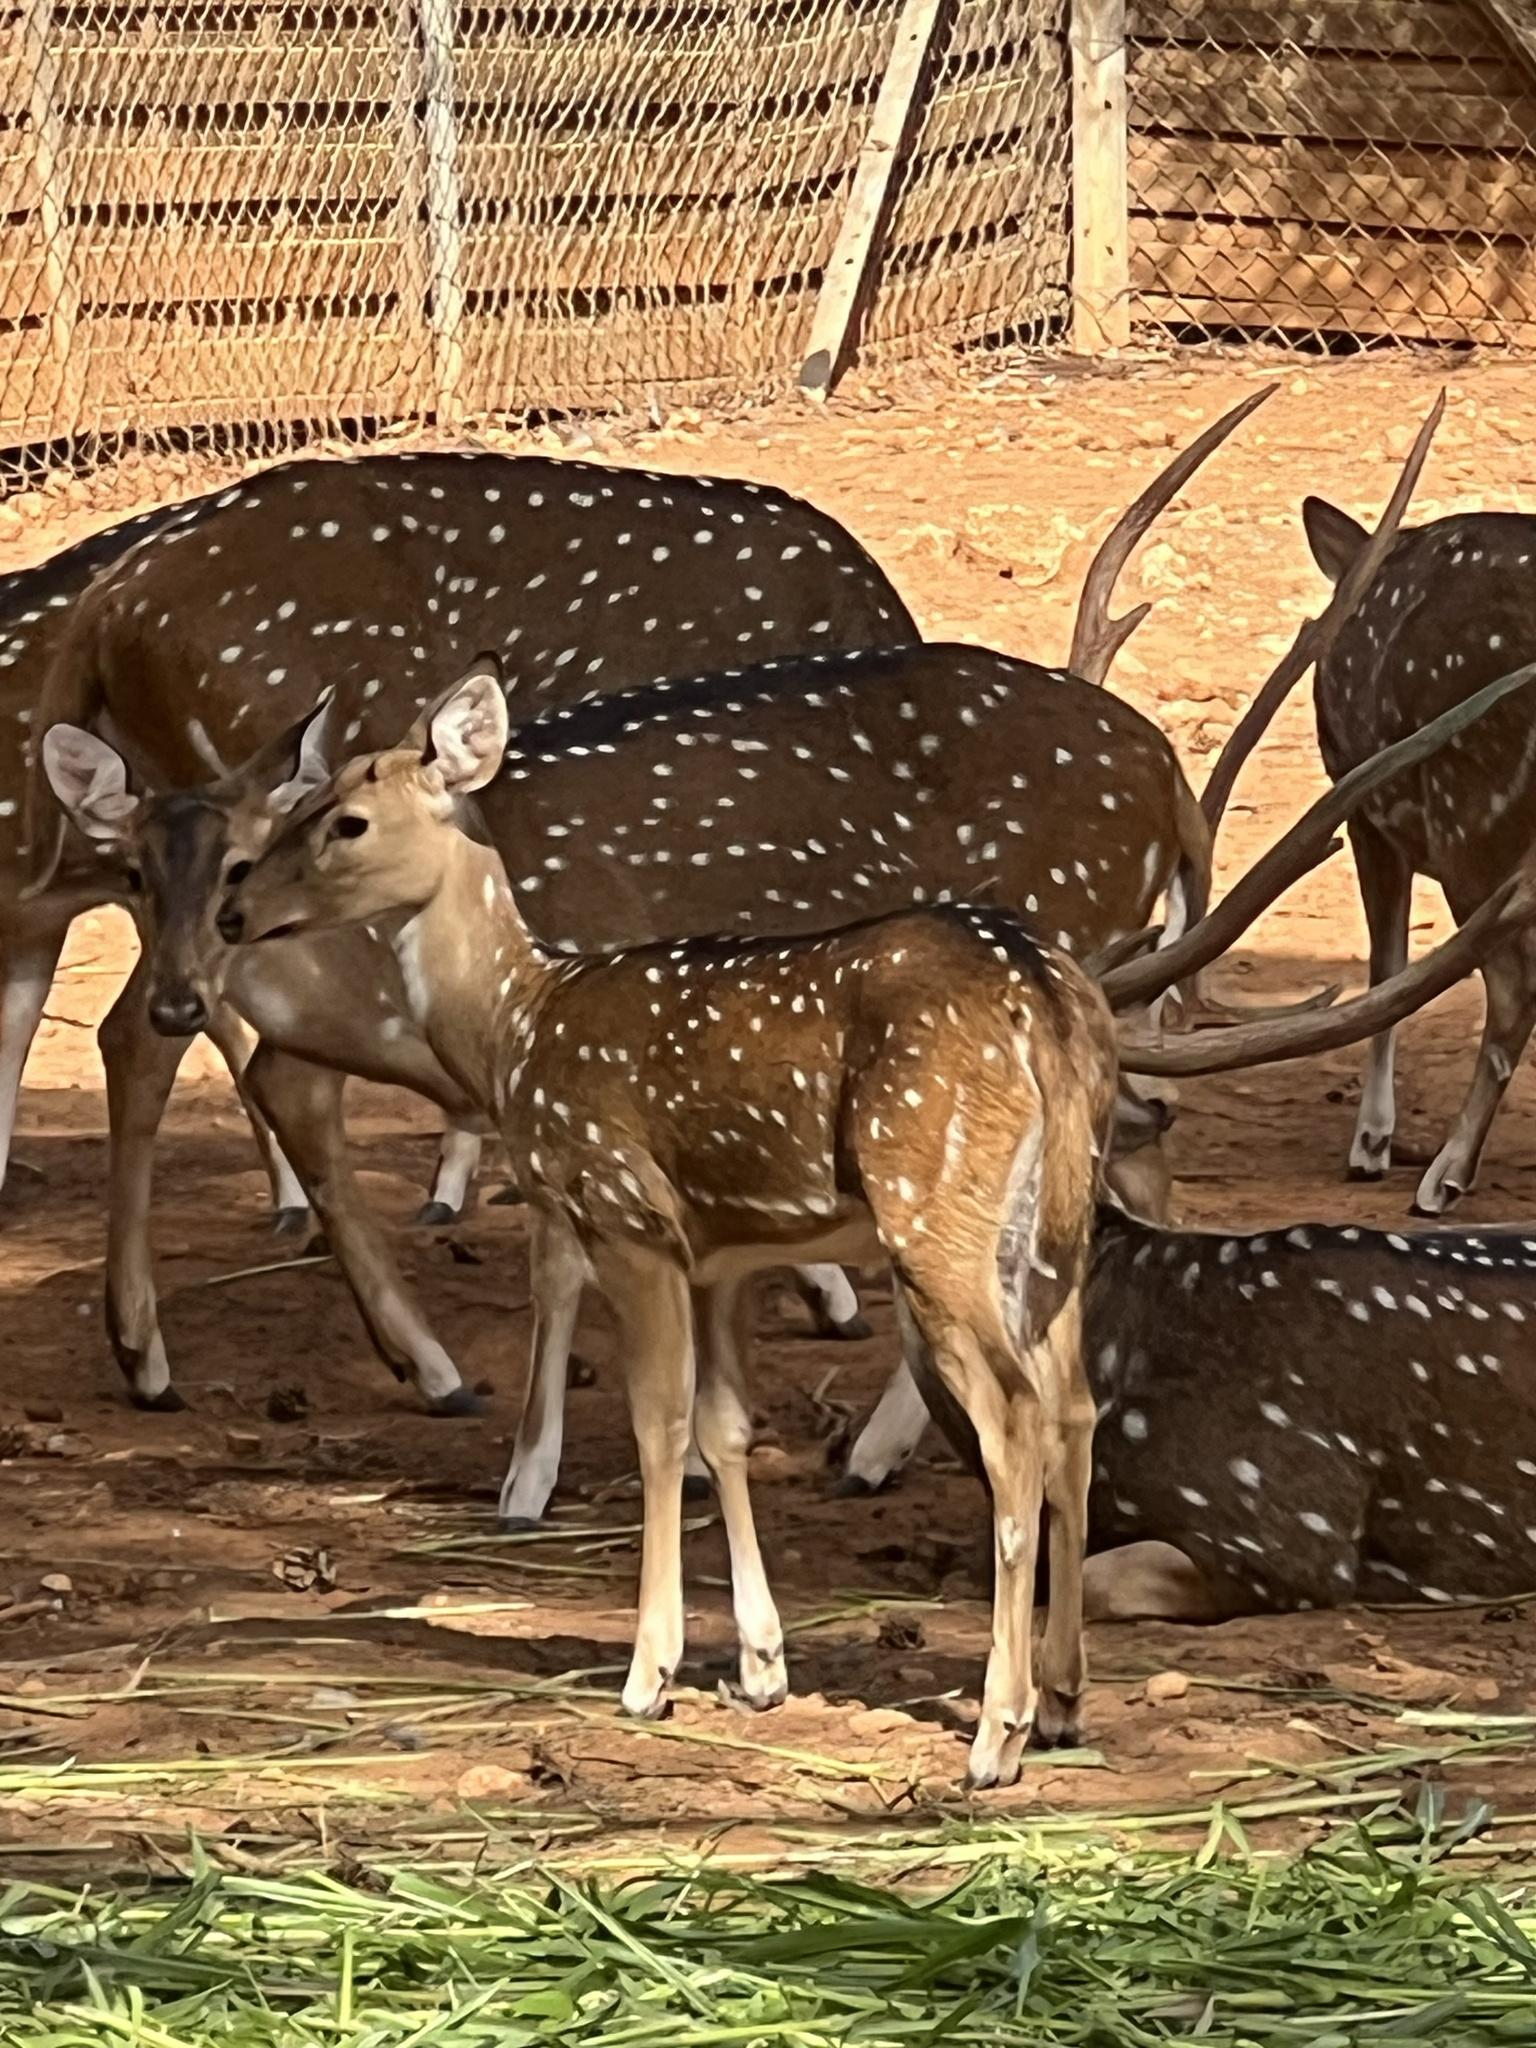Deer: (218, 664, 1117, 1788), (44, 455, 920, 790), (478, 643, 1208, 966), (1084, 1209, 1534, 1622), (42, 722, 268, 1037)
